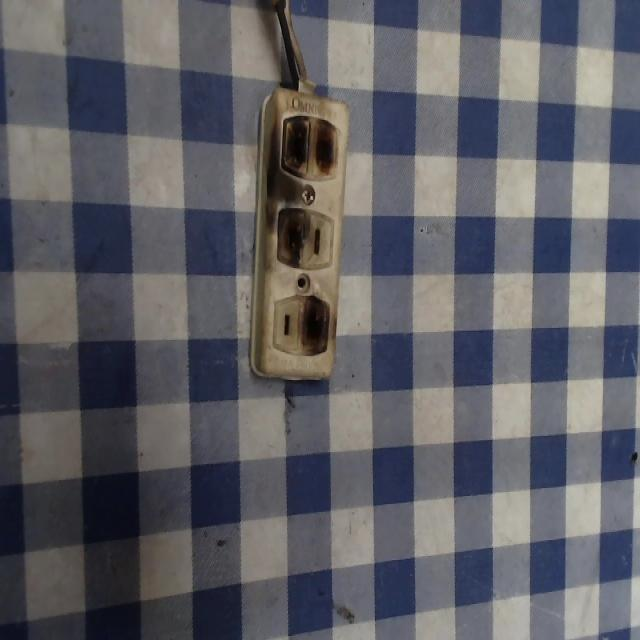-: (277, 107, 340, 185), (270, 200, 309, 268), (299, 291, 337, 360)
